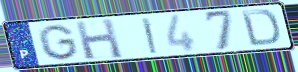4: (166, 13, 201, 54)
7: (202, 9, 235, 52)
D: (238, 8, 282, 48)
G: (36, 23, 81, 62)
H: (73, 17, 126, 61)
I: (140, 16, 159, 56)
